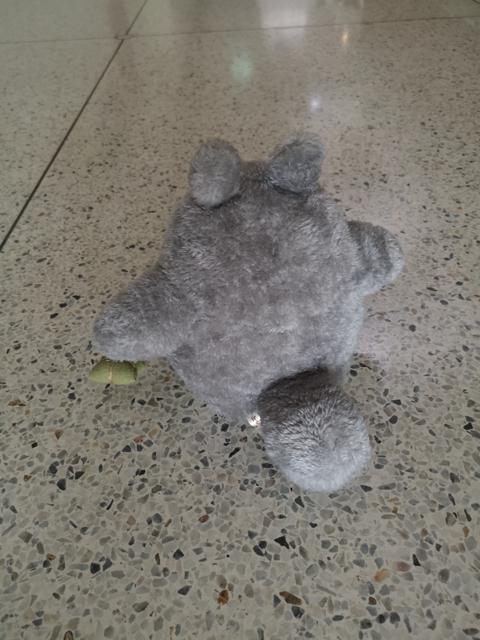totoro: (85, 133, 407, 499)
